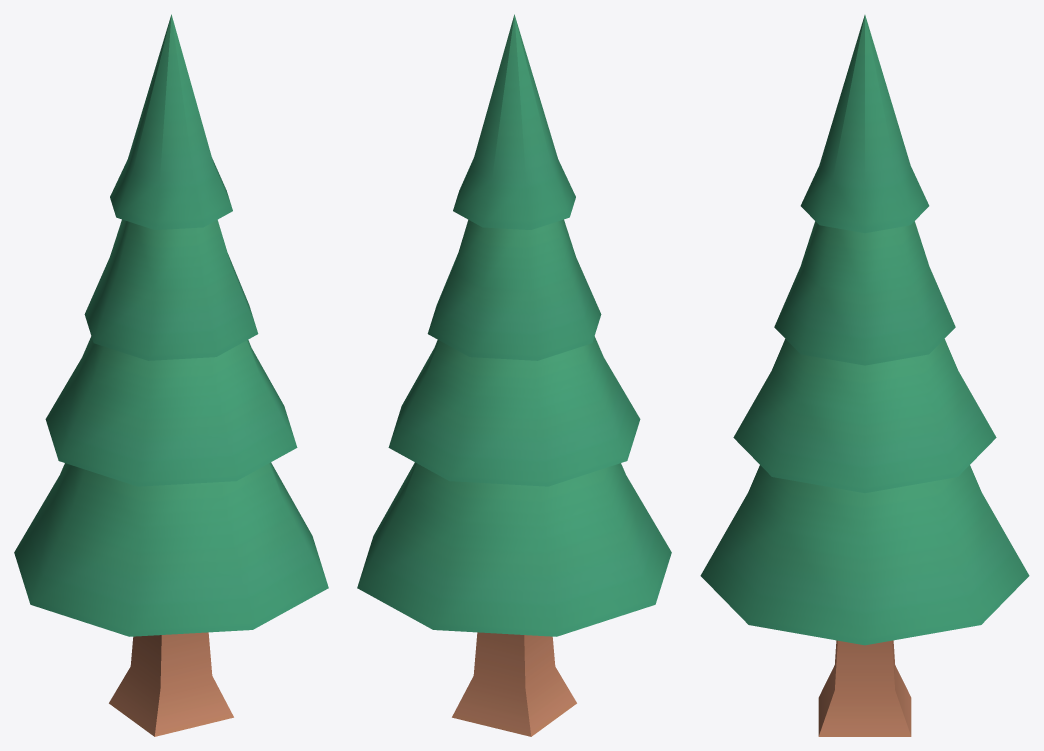
The model's file is tree.glb.
The picture shows the model from 3 angles, left to right: view 1: azimuth 30°, elevation 25°; view 2: azimuth 150°, elevation 25°; view 3: azimuth 270°, elevation 25°; orthographic projection.
Parts seen in each view (by area): view 1: tree; view 2: tree; view 3: tree.
Boxes of the visible parts, <box> form: tree: <box>14,14,328,736</box>; tree: <box>357,14,671,736</box>; tree: <box>700,15,1029,736</box>.
Bounding box in the file's own units: 1.02 × 2.41 × 1.02.
Materials: 1 (1 with a texture image).
